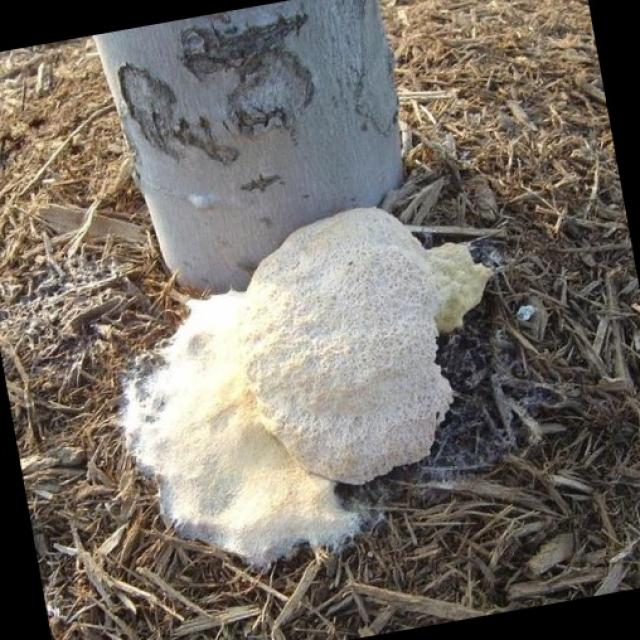Dog_vomit_slime_mold: (84, 184, 466, 560)
